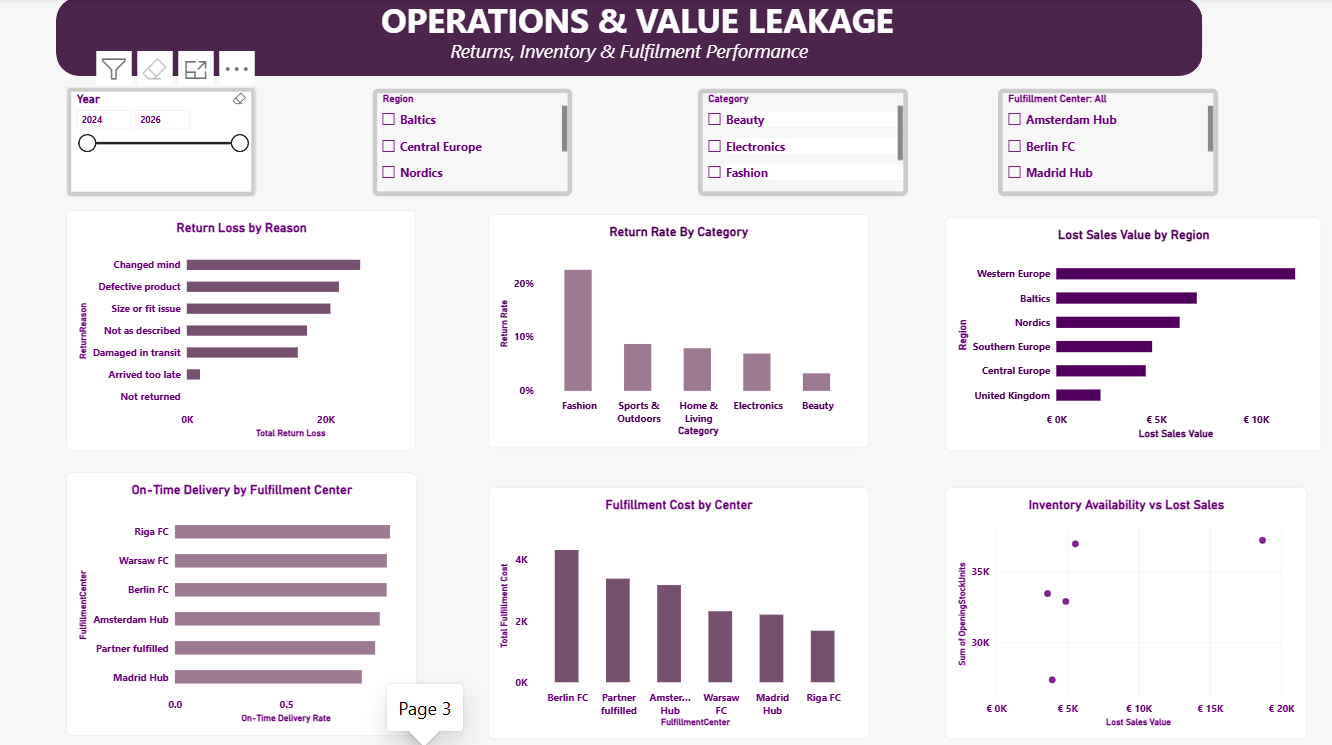

What the dashboard file says about the page in this screenshot:
{"tool":"powerbi","page":{"name":"Page 3","canvas":[1920,1080],"ordinal":2},"visuals":[{"type":"shape","box":[86.7,0,1642.2,113.3],"z":0},{"type":"textbox","box":[371.1,0,1093.3,71.1],"z":1000},{"type":"textbox","box":[86.7,57.8,1642.2,55.6],"z":2000},{"type":"clusteredBarChart","title":"Return Loss by Reason","fields":{"Category":["DimReturnReason.ReturnReason"],"Y":["FactOrderLine.Total Return Loss"]},"box":[100.2,305.6,500.6,343.8],"z":3000},{"type":"clusteredColumnChart","title":"Return Rate By Category","fields":{"Category":["DimProduct.Category"],"Y":["FactOrderLine.Return Rate"]},"box":[704.1,310.5,545.2,334.9],"z":4000},{"type":"clusteredBarChart","title":"Lost Sales Value by Region","fields":{"Category":["DimGeography.Region"],"Y":["FactOrderLine.Lost Sales Value"]},"box":[1360.1,315.8,517.8,335.2],"z":5000},{"type":"clusteredBarChart","title":"On-Time Delivery by Fulfillment Center","fields":{"Category":["DimFulfillment.FulfillmentCenter"],"Y":["FactOrderLine.On-Time Delivery Rate"]},"box":[100.2,682.1,501.2,376.5],"z":6000},{"type":"clusteredColumnChart","title":"Fulfillment Cost by Center","fields":{"Category":["DimFulfillment.FulfillmentCenter"],"Y":["FactOrderLine.Total Fulfillment Cost"]},"box":[704.3,702.9,545.7,360],"z":7000},{"type":"scatterChart","title":"Inventory Availability vs Lost Sales","fields":{"Category":["DimProduct.Category"],"X":["FactOrderLine.Lost Sales Value"],"Y":["Sum(FactOrderLine.OpeningStockUnits)"]},"box":[1360,702.9,517.1,360],"z":8000},{"type":"slicer","fields":{"Values":["DimDate.Year"]},"box":[100.2,129.6,271.4,156.5],"z":9000},{"type":"slicer","fields":{"Values":["DimGeography.Region"]},"box":[540.3,132,286,154],"z":10000},{"type":"slicer","fields":{"Values":["DimProduct.Category"]},"box":[1004.8,132,300.7,154],"z":11000},{"type":"slicer","fields":{"Values":["DimFulfillment.FulfillmentCenter"]},"box":[1435.1,132,315.4,154],"z":12000}]}

Visuals, with their boxes in screenshot pixels (x1, y1, x2, y2), scaled from the page's 1920x1080 canvas onto the 1332x745 screenshot:
shape: box=[60, 0, 1199, 78]
textbox: box=[257, 0, 1016, 49]
textbox: box=[60, 40, 1199, 78]
"Return Loss by Reason" clusteredBarChart: box=[70, 211, 417, 448]
"Return Rate By Category" clusteredColumnChart: box=[488, 214, 867, 445]
"Lost Sales Value by Region" clusteredBarChart: box=[944, 218, 1303, 449]
"On-Time Delivery by Fulfillment Center" clusteredBarChart: box=[70, 471, 417, 730]
"Fulfillment Cost by Center" clusteredColumnChart: box=[489, 485, 867, 733]
"Inventory Availability vs Lost Sales" scatterChart: box=[944, 485, 1302, 733]
slicer - DimDate.Year: box=[70, 89, 258, 197]
slicer - DimGeography.Region: box=[375, 91, 573, 197]
slicer - DimProduct.Category: box=[697, 91, 906, 197]
slicer - DimFulfillment.FulfillmentCenter: box=[996, 91, 1214, 197]
